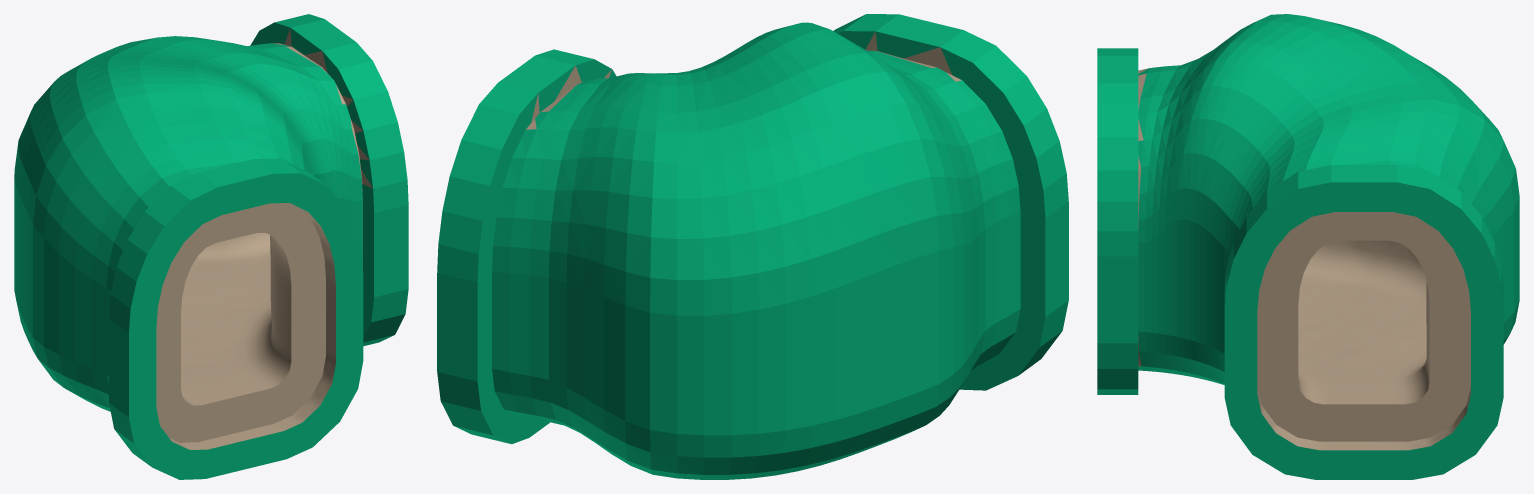
The model's file is TT_Turn90_Wide.fbx.
The picture shows the model from 3 angles, left to right: view 1: azimuth 30°, elevation 25°; view 2: azimuth 150°, elevation 25°; view 3: azimuth 270°, elevation 25°; orthographic projection. The views are drawn at different scales.
Parts seen in each view (by area): view 1: TT_Turn90_Wide_LOD0; view 2: TT_Turn90_Wide_LOD0; view 3: TT_Turn90_Wide_LOD0.
Boxes of the visible parts, x1,y1,x2,y2 form: TT_Turn90_Wide_LOD0: (14,14,408,479); TT_Turn90_Wide_LOD0: (437,14,1068,479); TT_Turn90_Wide_LOD0: (1097,14,1519,479).
Bounding box in the file's own units: 495 × 455 × 515.
